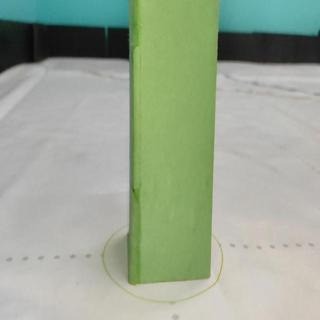greenbox: (127, 0, 219, 285)
